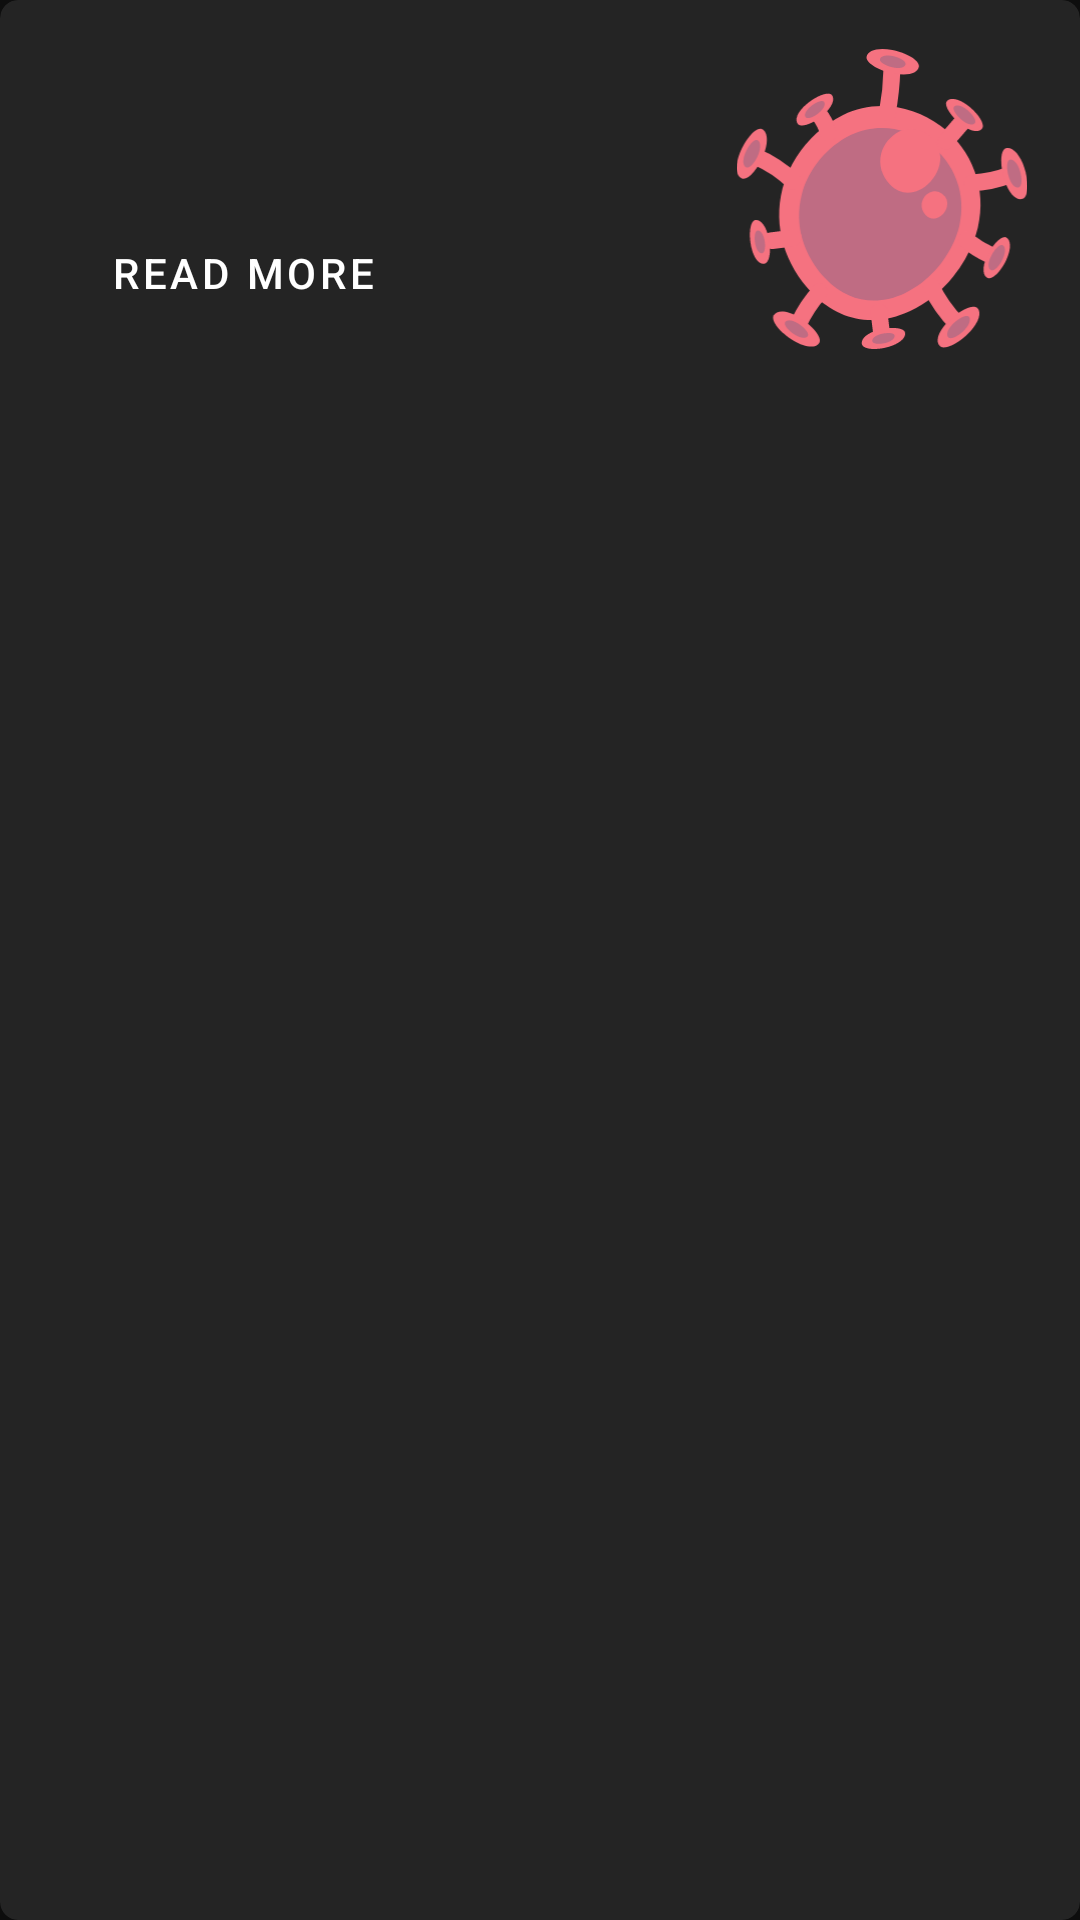

Icons on this 1080w x 1920h Android screen, each with the point to tap as [x,y]:
covid virus: [882,199]
